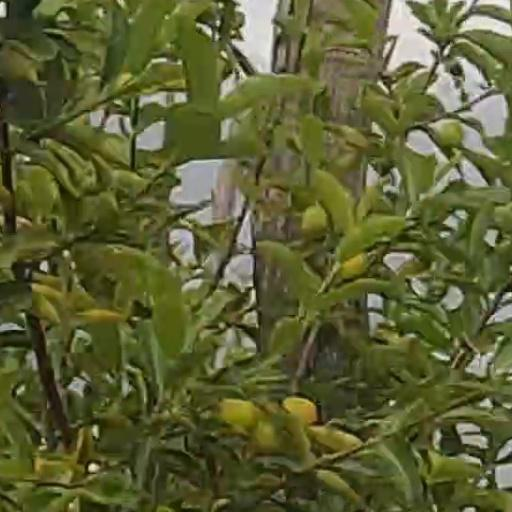acerola_verde: (302, 207, 326, 237), (438, 123, 463, 146), (292, 187, 314, 205)
